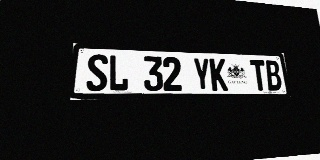2: (163, 57, 182, 91)
3: (144, 56, 163, 91)
B: (264, 60, 283, 91)
K: (209, 58, 228, 91)
L: (108, 55, 128, 91)
S: (86, 54, 108, 91)
T: (250, 60, 268, 91)
Y: (192, 58, 211, 91)
